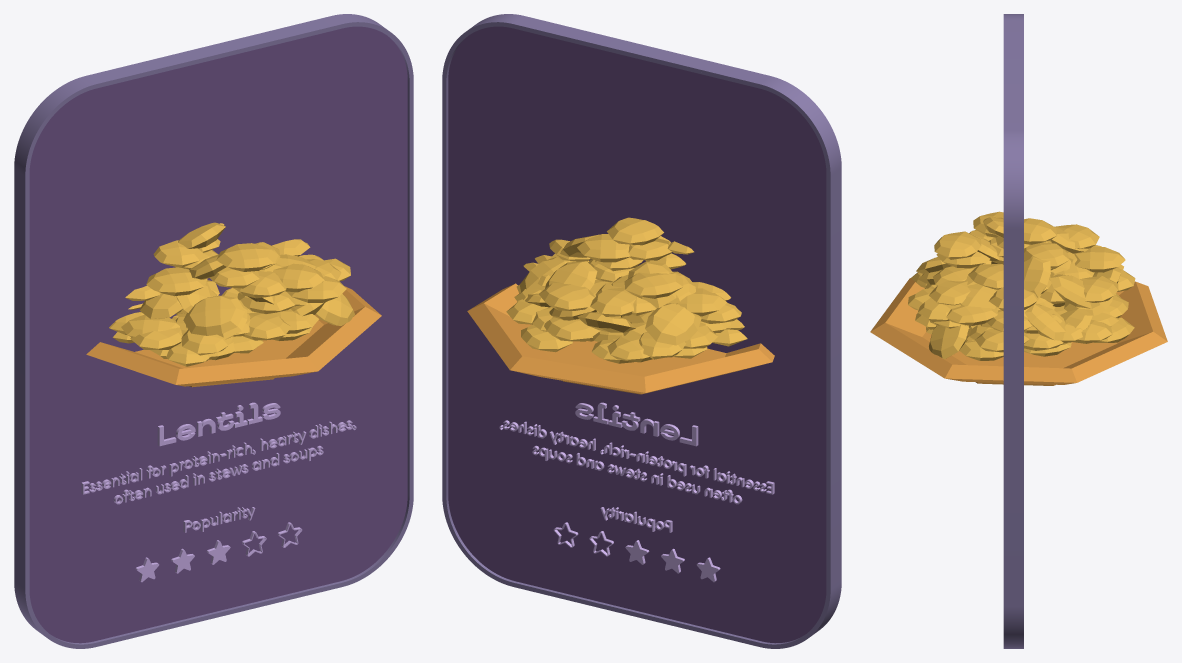
The model's file is lentils.glb.
The picture shows the model from 3 angles, left to right: view 1: azimuth 30°, elevation 25°; view 2: azimuth 150°, elevation 25°; view 3: azimuth 270°, elevation 25°; orthographic projection. The views are drawn at different scales.
Visible parts, largest first — view 1: Mesh_990.002, bowl of cereal.002, Mesh_2374.002, Mesh_1964.002, Mesh_2170.002, Mesh_2640.001; view 2: Mesh_990.002, bowl of cereal.002, Mesh_2374.002, Mesh_1964.002, Mesh_2170.002, Mesh_2640.001; view 3: bowl of cereal.002, Mesh_2374.002.
Part boxes in pixels (bbox=[...]): Mesh_990.002: bbox=[29, 26, 407, 643]; bowl of cereal.002: bbox=[86, 222, 381, 387]; Mesh_2374.002: bbox=[14, 14, 413, 648]; Mesh_1964.002: bbox=[81, 420, 356, 532]; Mesh_2170.002: bbox=[157, 402, 280, 446]; Mesh_2640.001: bbox=[135, 522, 302, 582]; Mesh_990.002: bbox=[448, 26, 826, 643]; bowl of cereal.002: bbox=[467, 217, 774, 394]; Mesh_2374.002: bbox=[442, 14, 841, 648]; Mesh_1964.002: bbox=[499, 420, 774, 532]; Mesh_2170.002: bbox=[575, 402, 698, 446]; Mesh_2640.001: bbox=[553, 522, 720, 582]; bowl of cereal.002: bbox=[870, 211, 1167, 385]; Mesh_2374.002: bbox=[1003, 14, 1023, 648].
Bounding box in the file's own units: 9.06 × 12.55 × 6.62.
